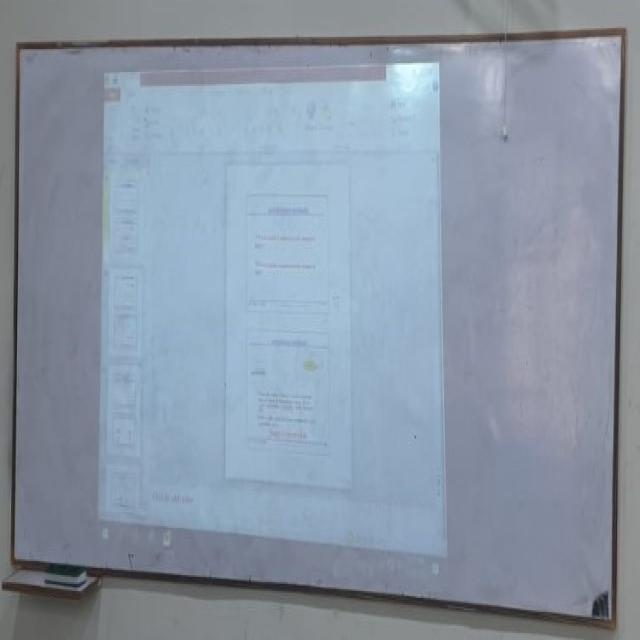Slide: (99, 46, 451, 579)
White-board: (13, 38, 624, 621)
